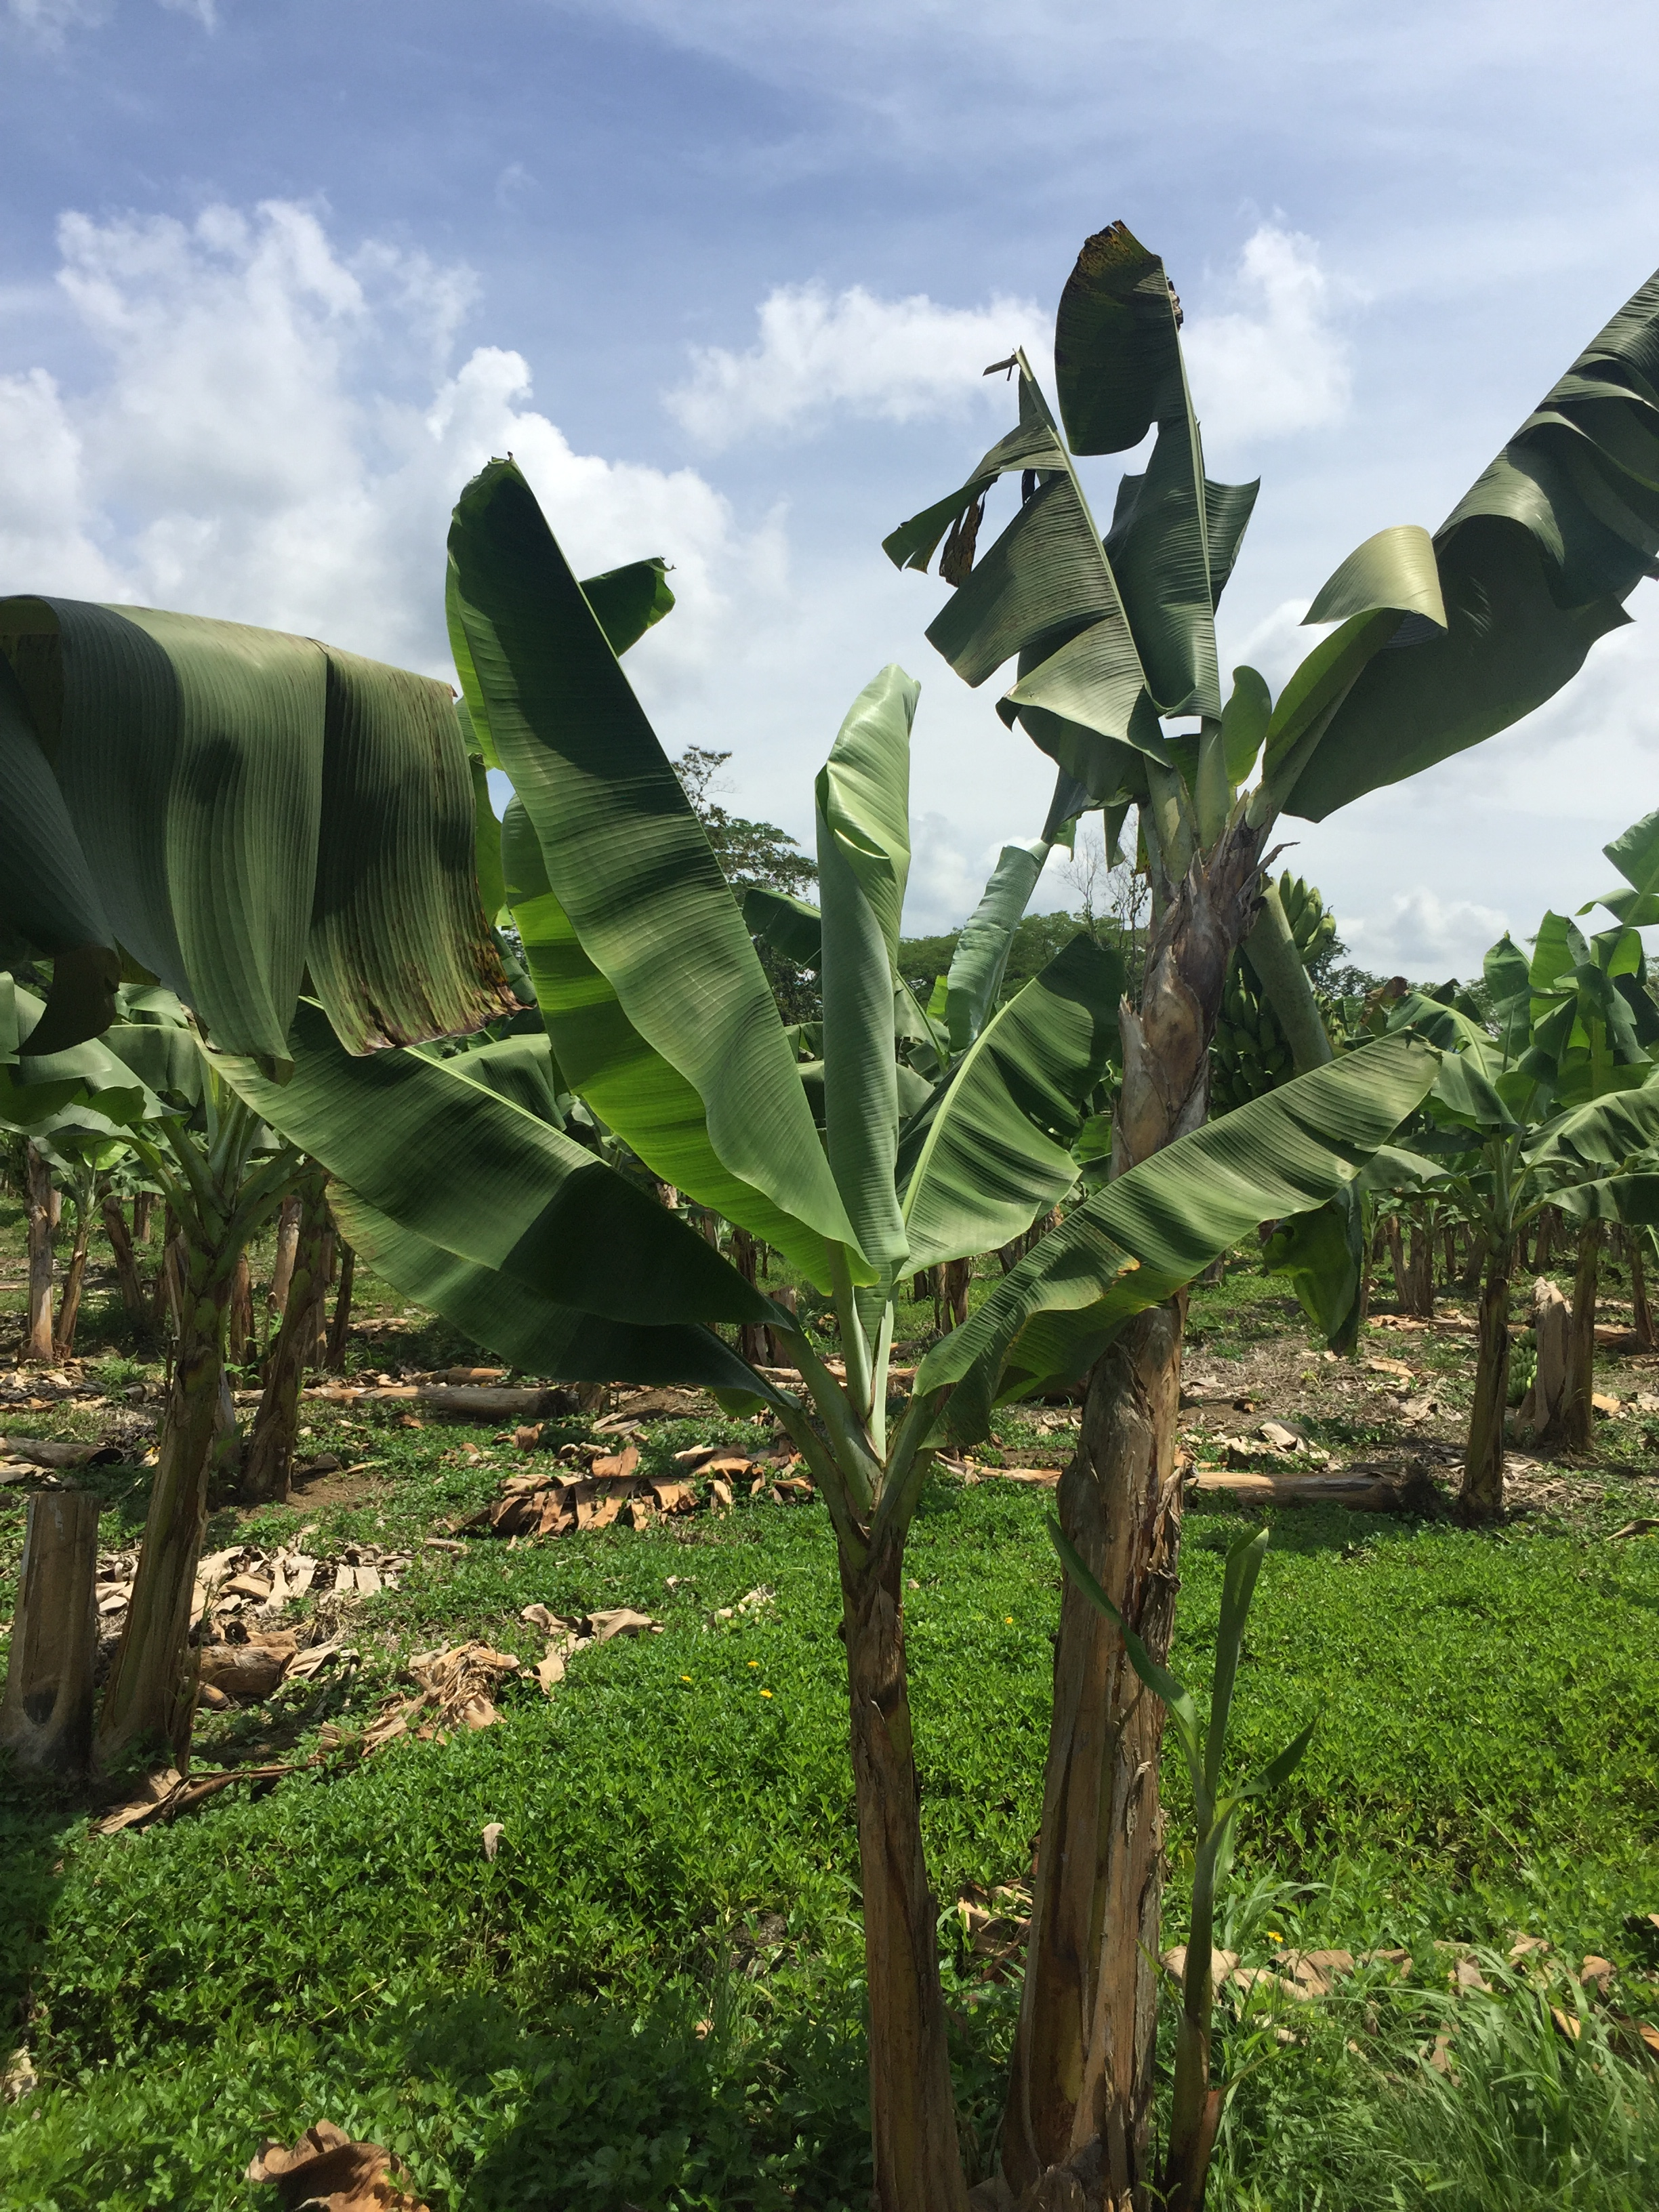candleleafs: (814, 664, 910, 1357)
